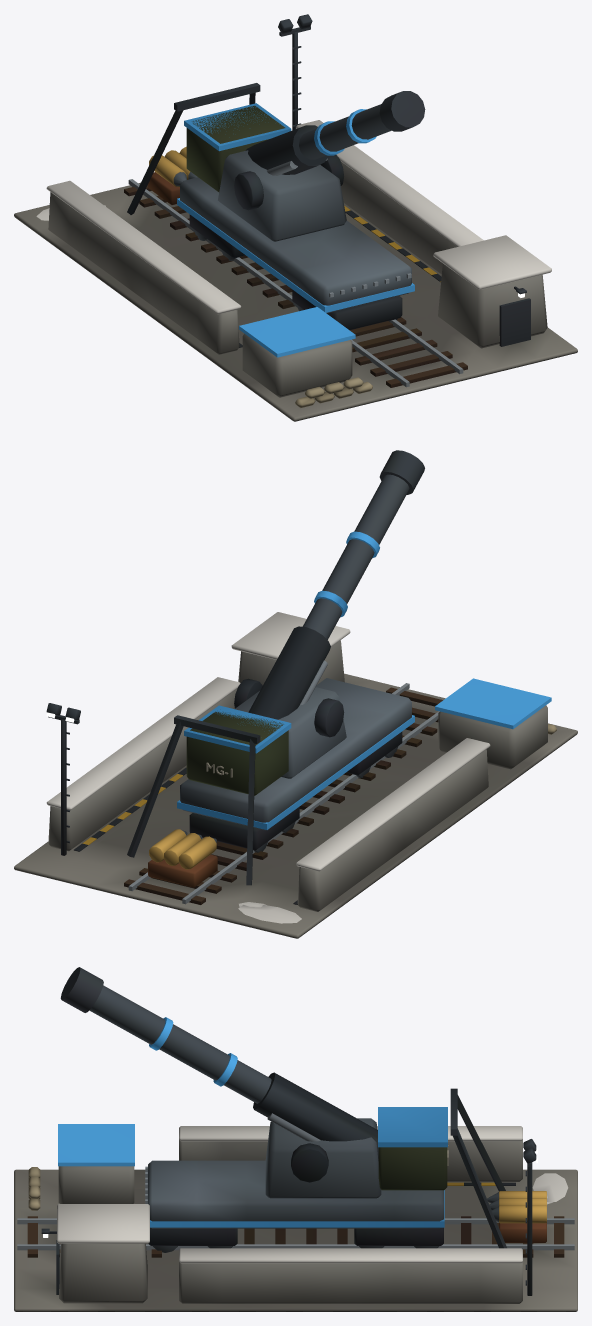
Rendered from cannon.glb.
3 views of the same model, one above another, from view 1: azimuth 30°, elevation 25°; view 2: azimuth 150°, elevation 25°; view 3: azimuth 270°, elevation 25° (orthographic).
Parts seen in each view (by area): view 1: cannon_root_matte, cannon_root_metal, cannon_root_trim; view 2: cannon_root_matte, cannon_root_metal, cannon_root_trim; view 3: cannon_root_matte, cannon_root_metal, cannon_root_trim.
Part boxes in pixels (x1,y1,x2,y2): cannon_root_matte: [14, 105, 577, 421]; cannon_root_metal: [127, 14, 530, 387]; cannon_root_trim: [177, 103, 414, 357]; cannon_root_matte: [14, 612, 577, 938]; cannon_root_metal: [46, 450, 439, 904]; cannon_root_trim: [177, 531, 551, 829]; cannon_root_matte: [14, 1126, 577, 1311]; cannon_root_metal: [17, 967, 574, 1295]; cannon_root_trim: [58, 1017, 447, 1227].
Size of the model in its own units: 9.6 by 8.79 by 16.4.
